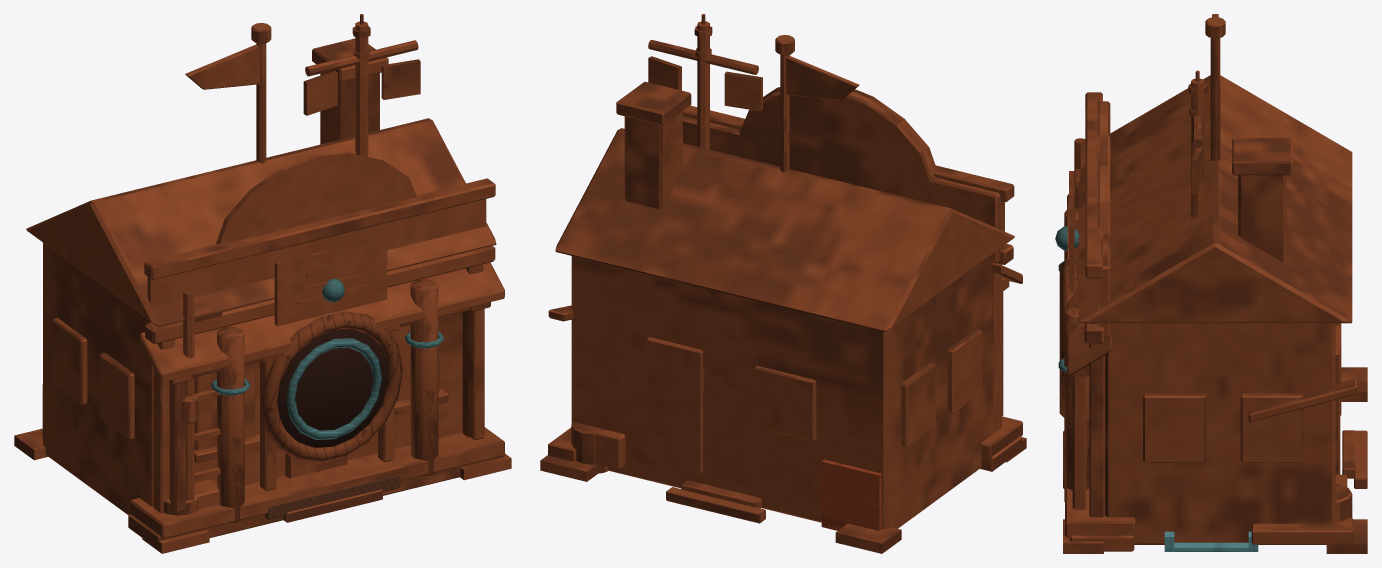
The model's file is claim-office.e9.glb.
3 renders of one model, left to right at view 1: azimuth 30°, elevation 25°; view 2: azimuth 150°, elevation 25°; view 3: azimuth 270°, elevation 25°, orthographic. The views are drawn at different scales.
Visible parts, largest first — view 1: ClaimOfficeE9CanalReeve; view 2: ClaimOfficeE9CanalReeve; view 3: ClaimOfficeE9CanalReeve.
Boxes of the visible parts, left/top/right/bottom form: ClaimOfficeE9CanalReeve: left=14, top=14, right=511, bottom=553; ClaimOfficeE9CanalReeve: left=540, top=14, right=1026, bottom=553; ClaimOfficeE9CanalReeve: left=1055, top=14, right=1367, bottom=553.
Size of the model in its own units: 4.26 by 5.02 by 3.2.
1 material, 1 textured.
